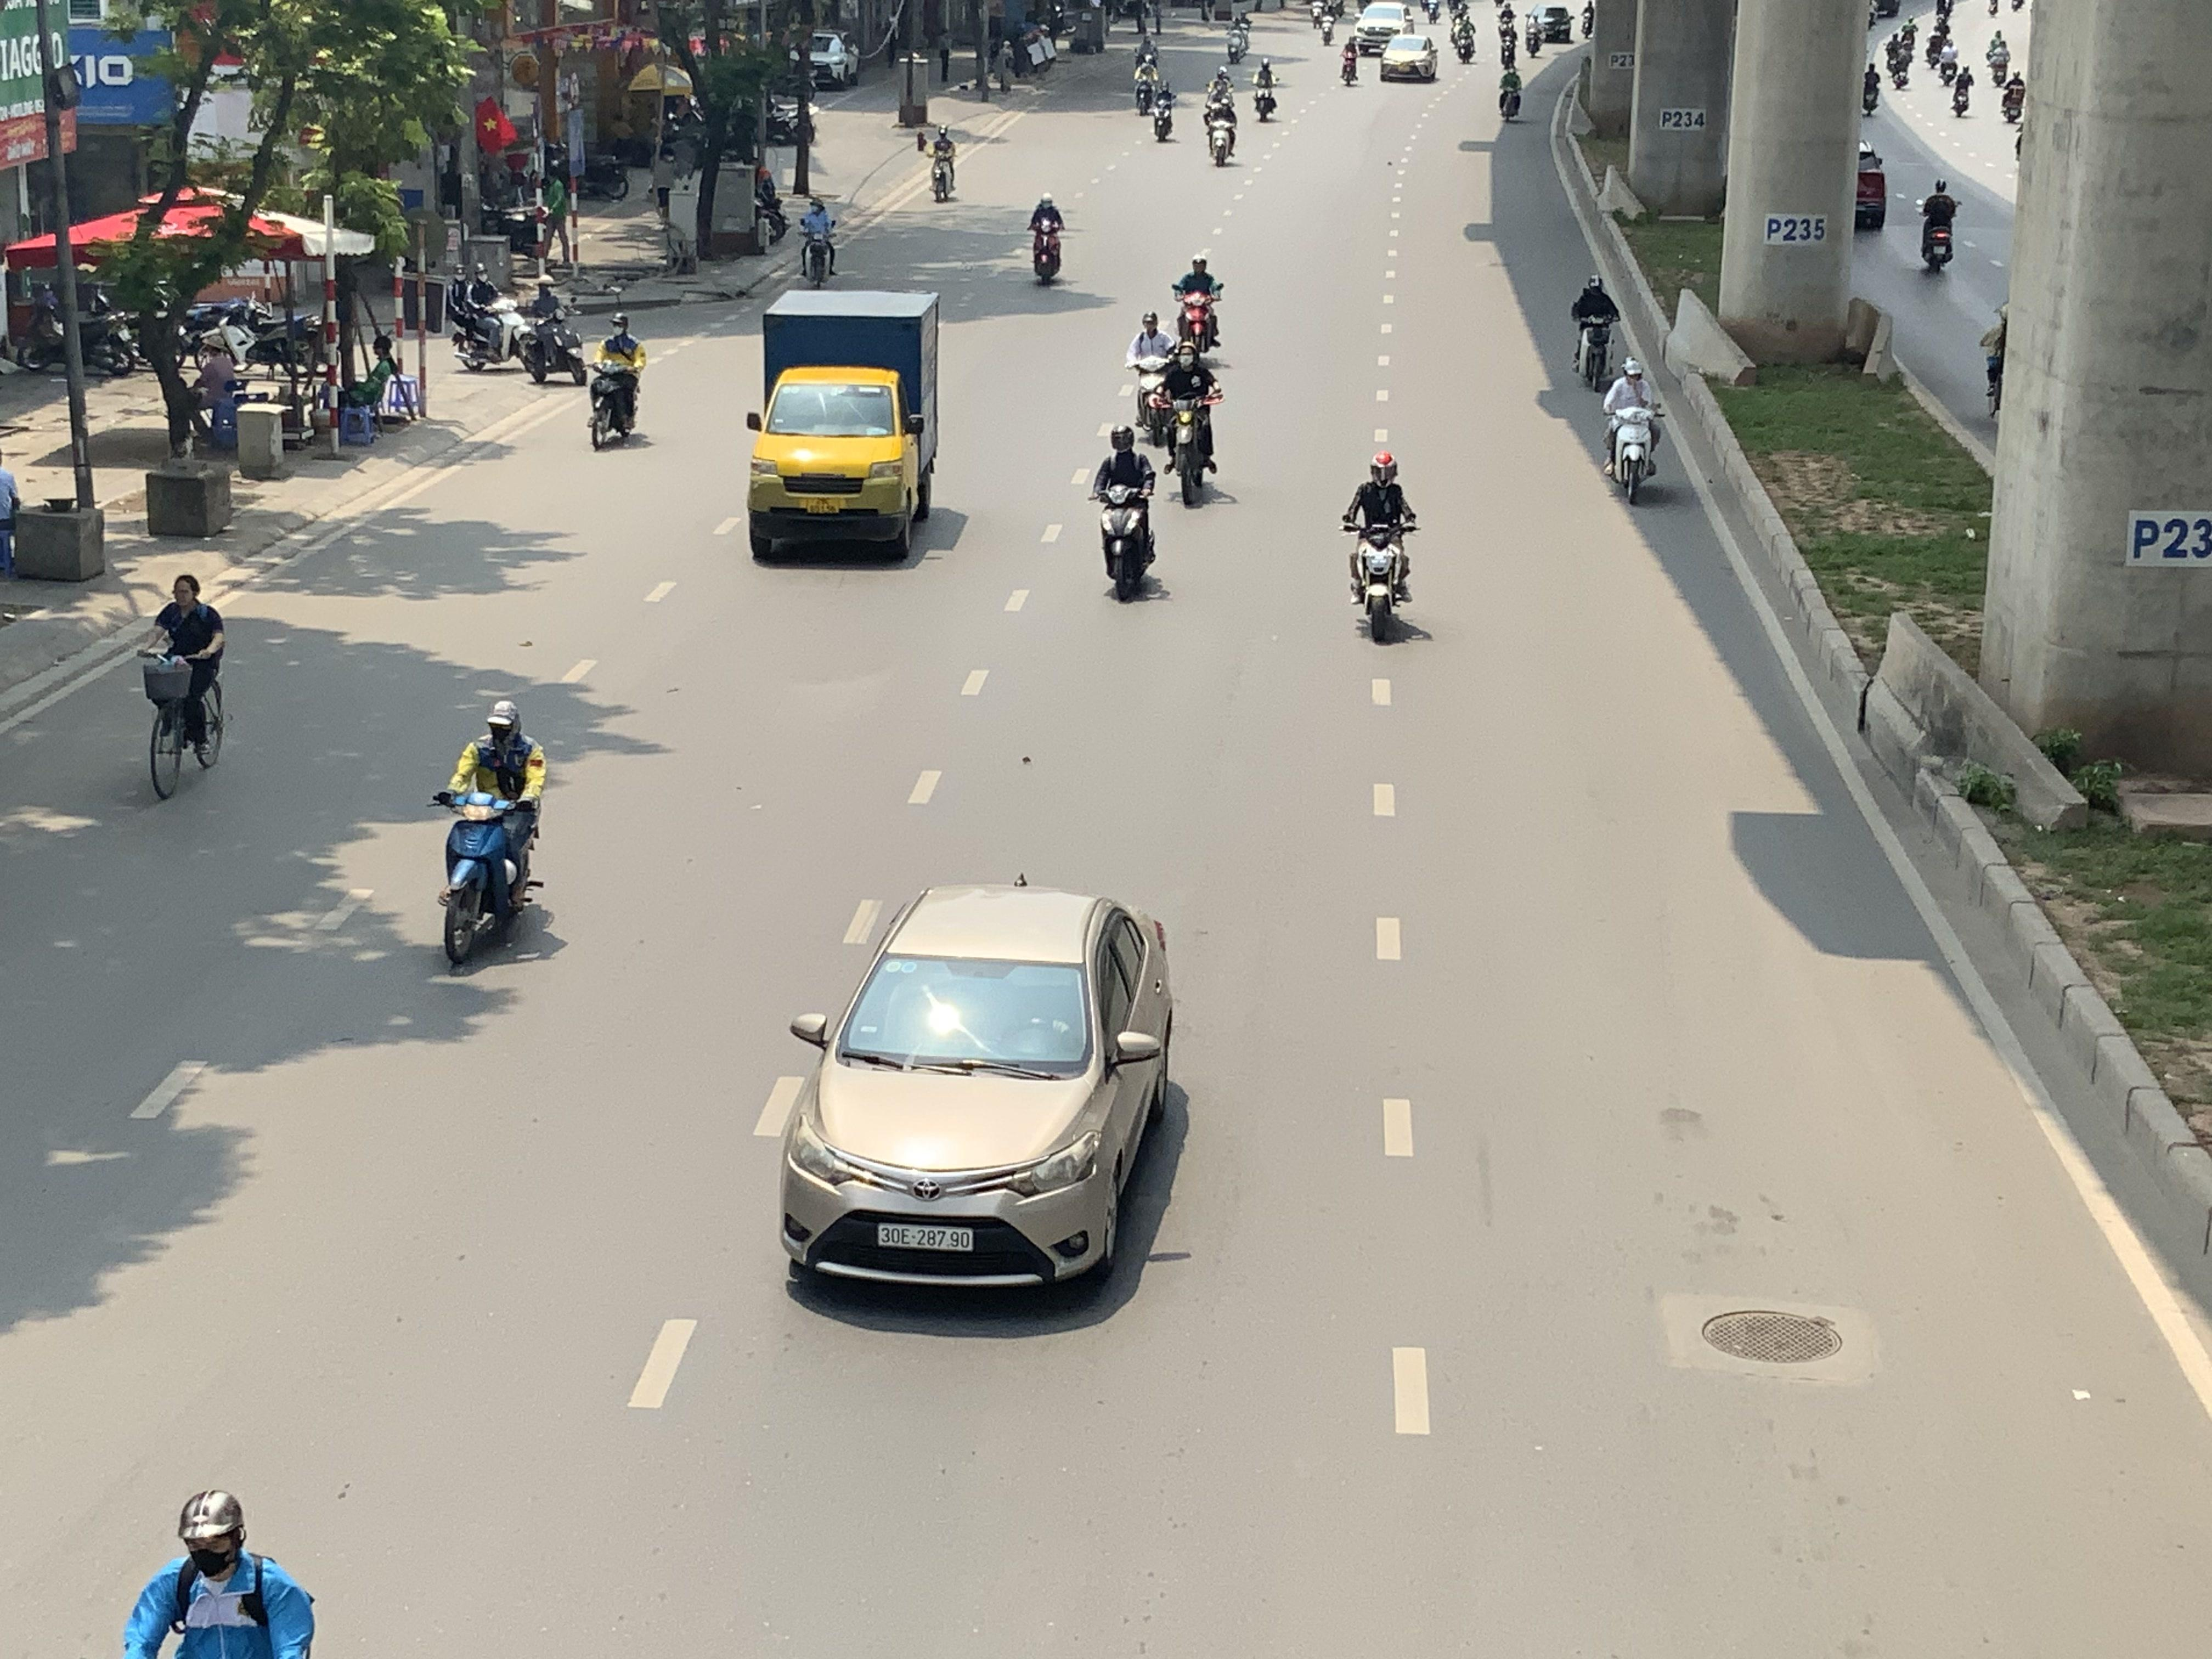BSD: (878, 1225, 974, 1251)
car: (779, 882, 1177, 1295), (1379, 33, 1439, 84)
motorbike: (118, 1488, 319, 1659), (434, 699, 547, 972), (139, 573, 226, 802), (1343, 451, 1416, 647), (1090, 423, 1163, 603), (1155, 338, 1224, 507), (1601, 357, 1663, 505), (449, 270, 533, 375), (587, 314, 648, 450), (521, 275, 587, 387), (1125, 310, 1177, 441), (1571, 274, 1623, 392), (1170, 253, 1224, 356), (1916, 178, 1959, 275), (798, 192, 840, 288), (1026, 192, 1066, 288), (925, 122, 960, 202), (1204, 98, 1238, 166), (1251, 54, 1278, 122), (1150, 80, 1177, 143), (1498, 63, 1526, 122), (2000, 68, 2027, 124), (1951, 64, 1977, 119), (1886, 40, 1914, 91), (1224, 14, 1249, 66), (1986, 38, 2012, 85), (1339, 33, 1362, 87), (1864, 63, 1881, 117)
truck: (744, 288, 944, 565)
